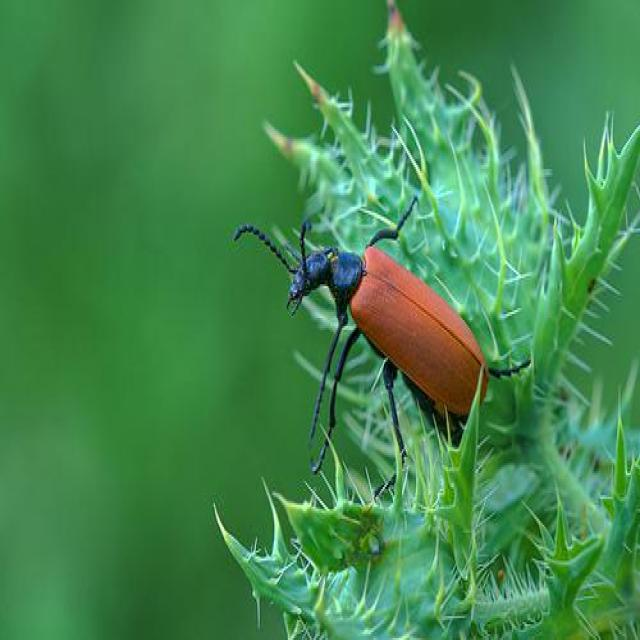BlisterBeetle-Adult-: (224, 183, 535, 499)
